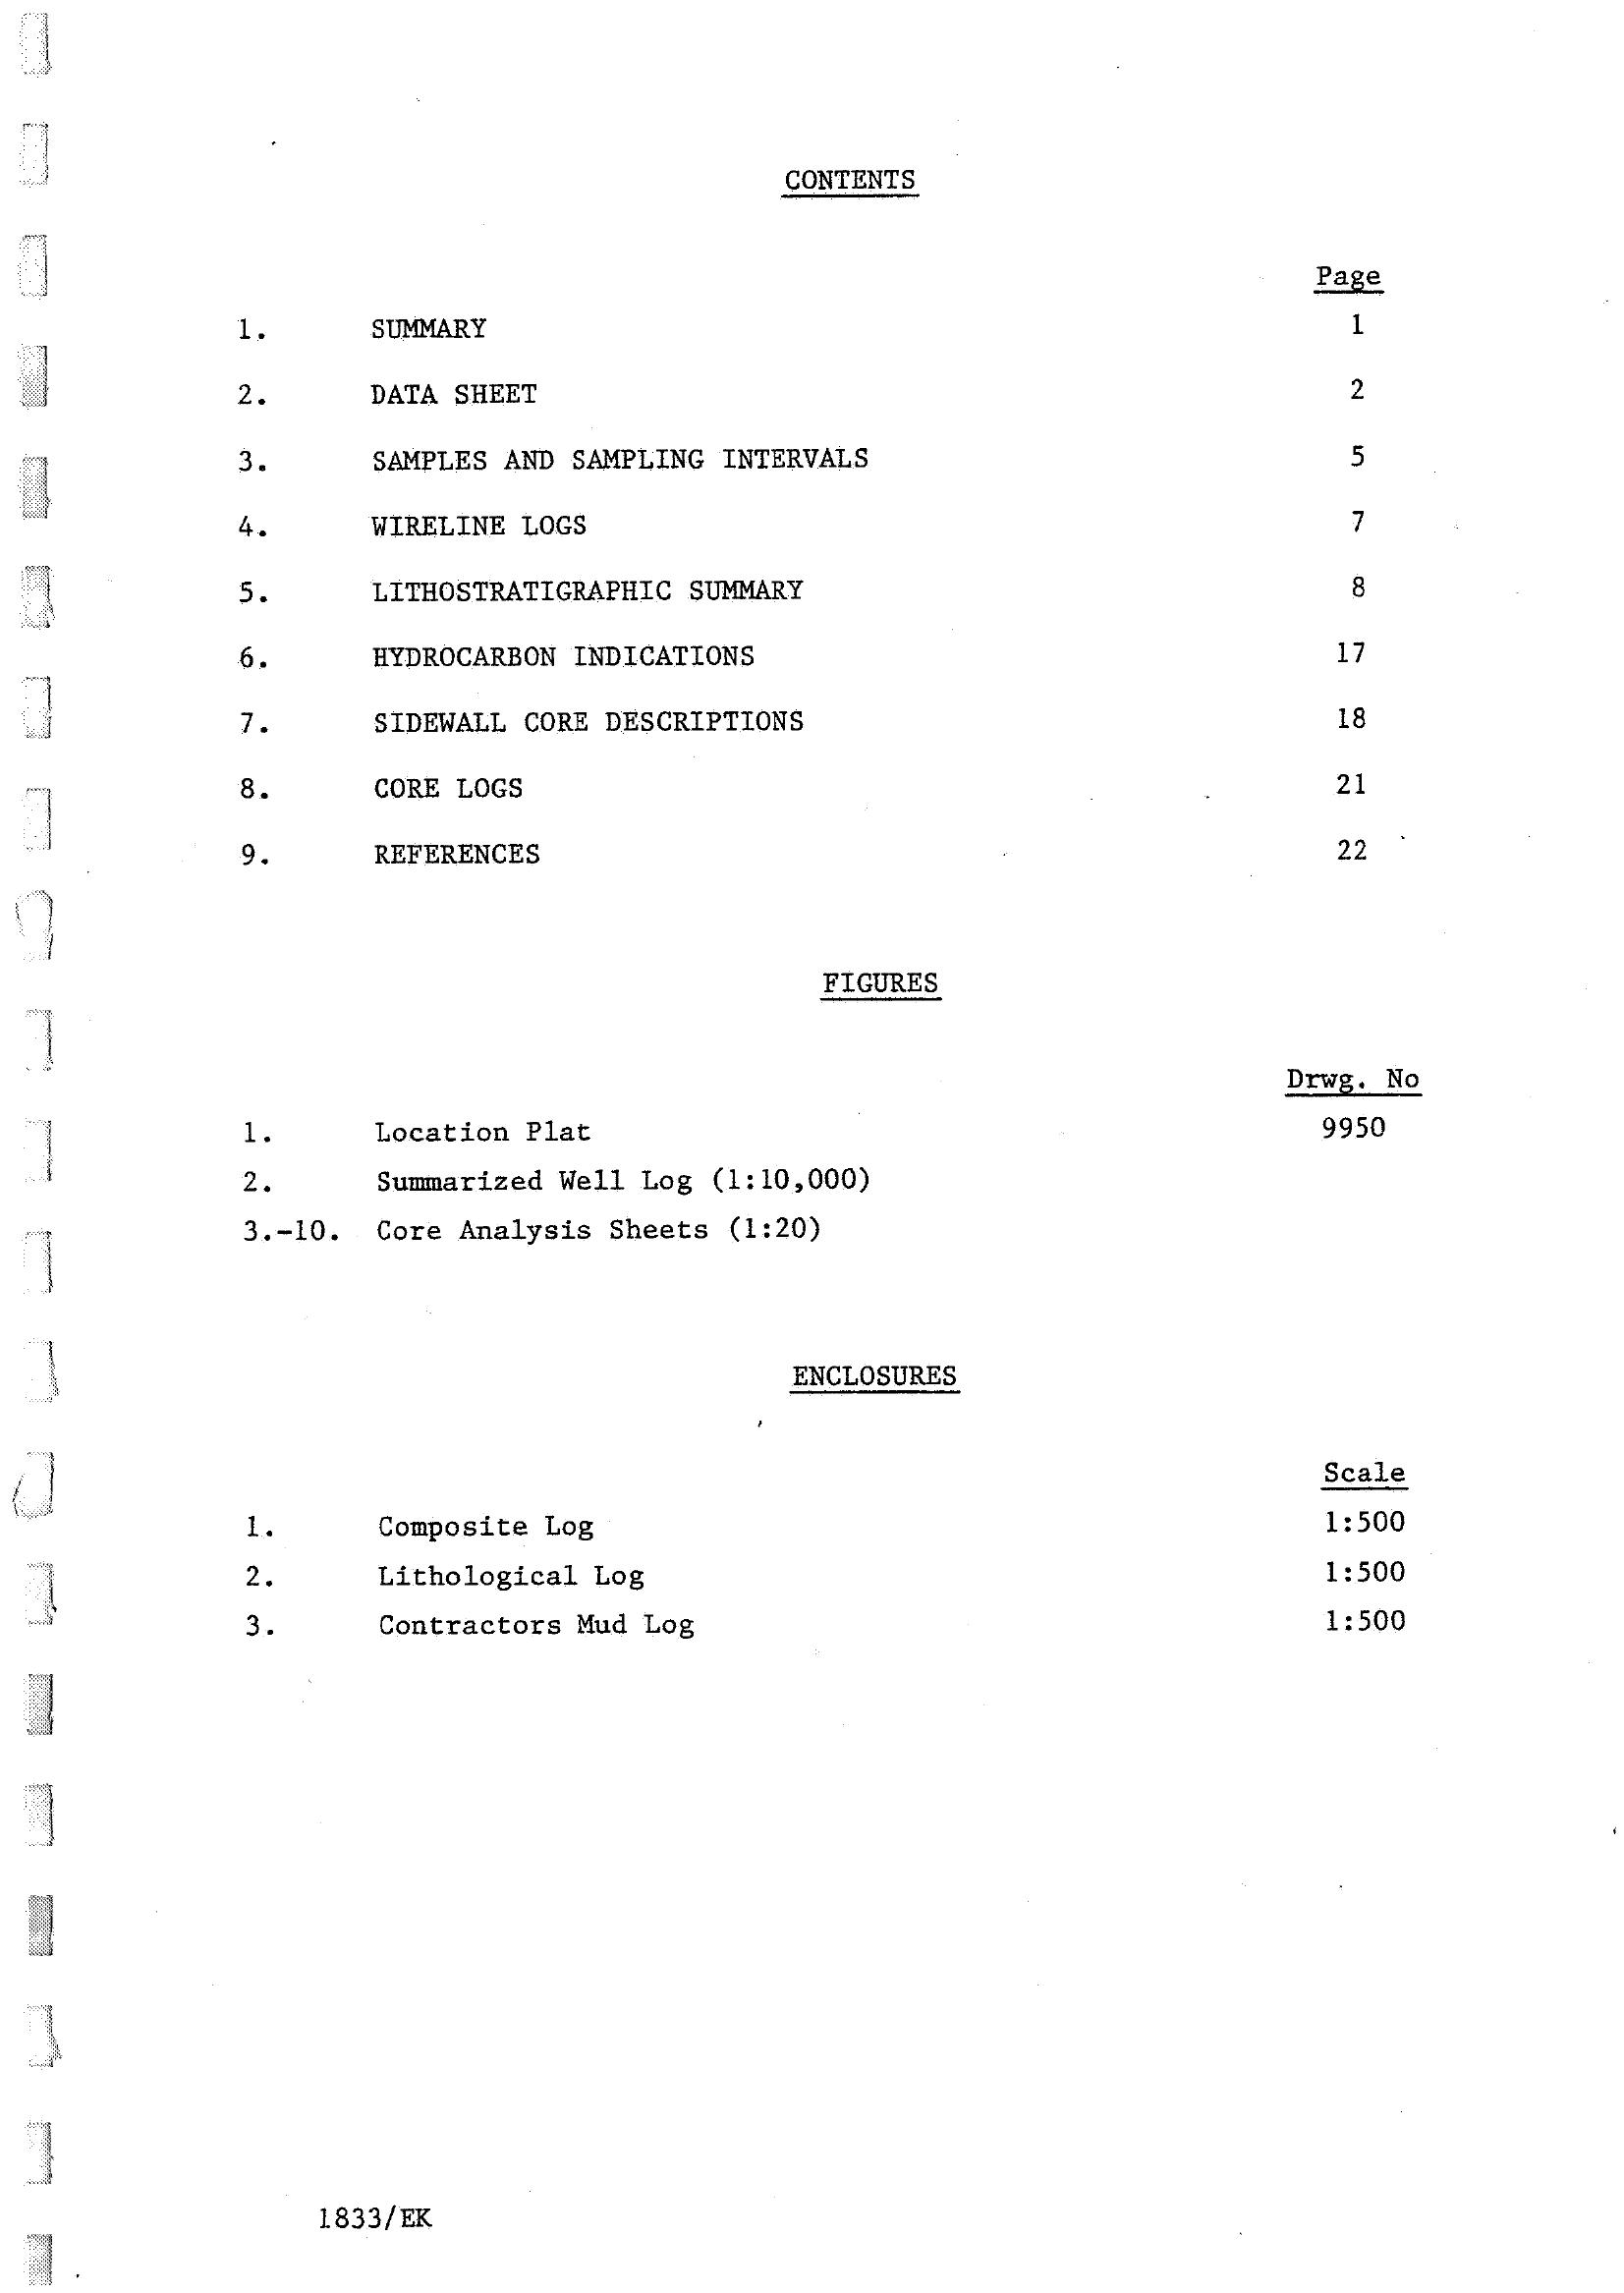text: (172, 135, 1497, 951), (188, 1334, 1468, 1741), (186, 954, 1480, 1298)
